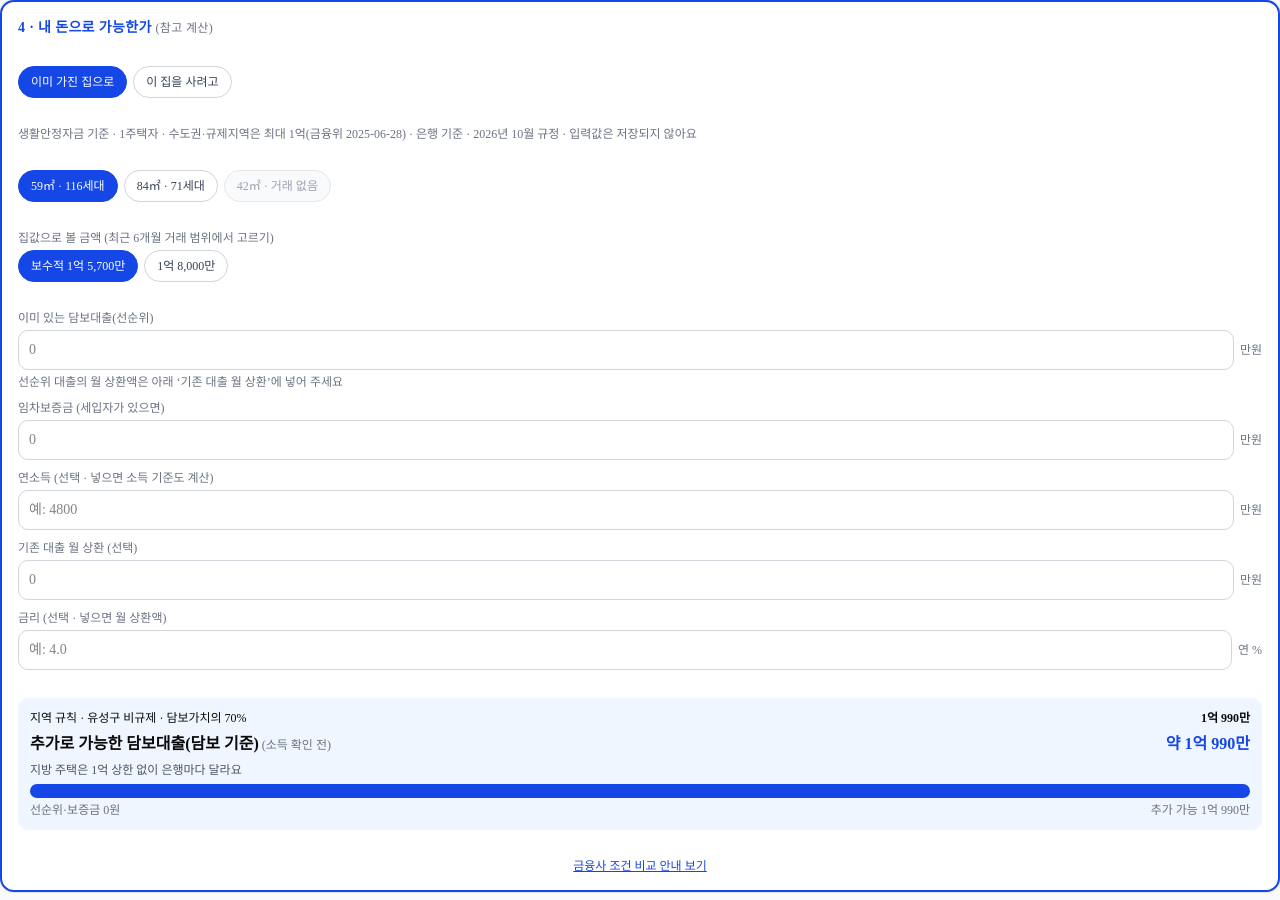
Scenario: LoanEstimateSection — 이미 가진 집(기본) › 설계 예시 — 6139 보수적 1억 5,700만 · 유성구 비규제 70% = 1억 990만 · 선순위 5,000만 → 약 5,990만 · 지방 상한 없음
Click the button with test id "consumer-loan-notes-toggle" at [640, 866], box [18,858,1262,874]
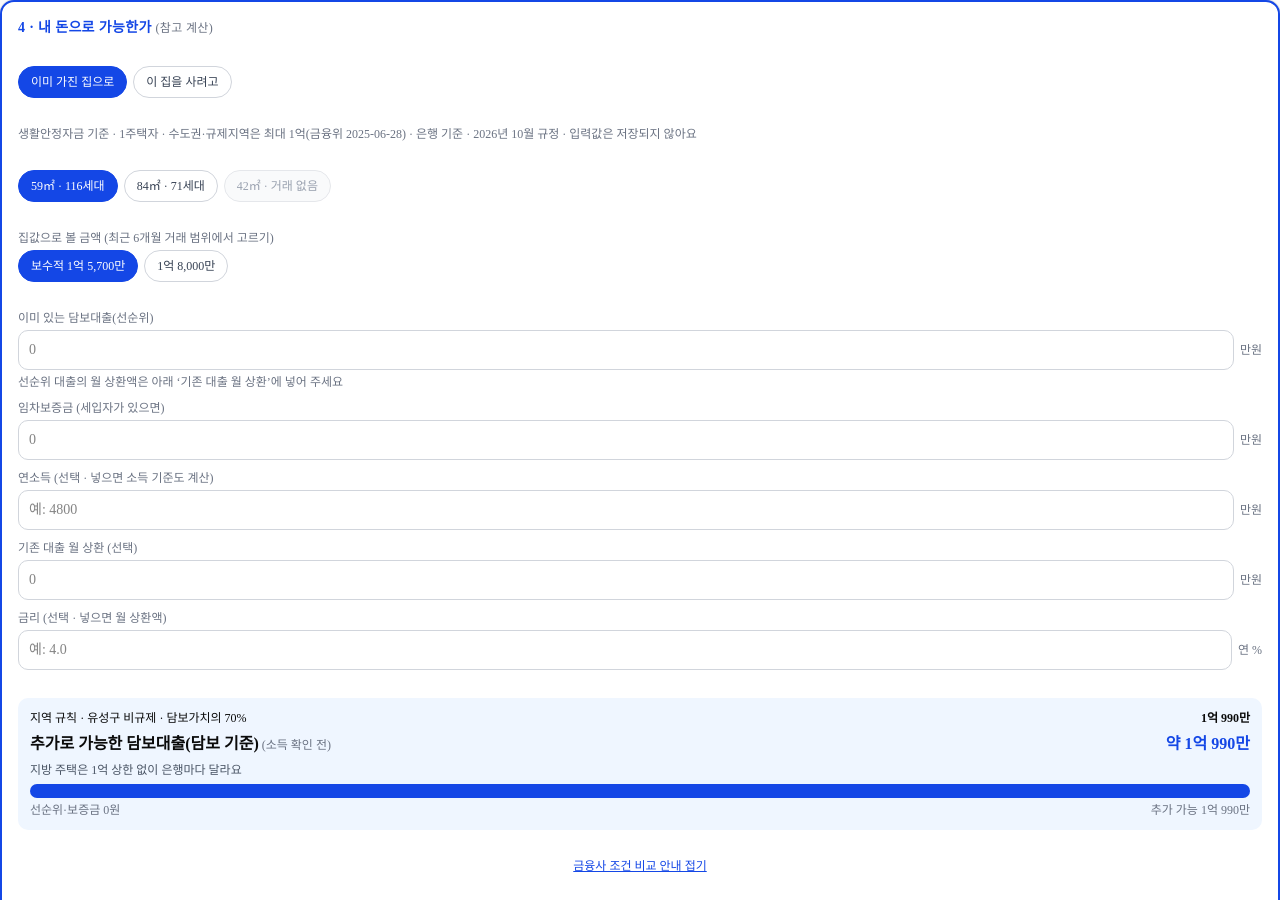
Expected: the text with test id "consumer-loan-basis" shows "생활안정자금 기준 · 1주택자 · 수도권·규제지역은 최대 1억(금융위 2025-06-28)", [18,127,697,141]
Expected: the element with test id "consumer-loan-result" shows "유성구 비규제 · 담보가치의 70%", [30,711,247,725]
Type "5000" into the field labelled "이미 있는 담보대출(선순위)" at [626, 350], box [18,330,1234,370]
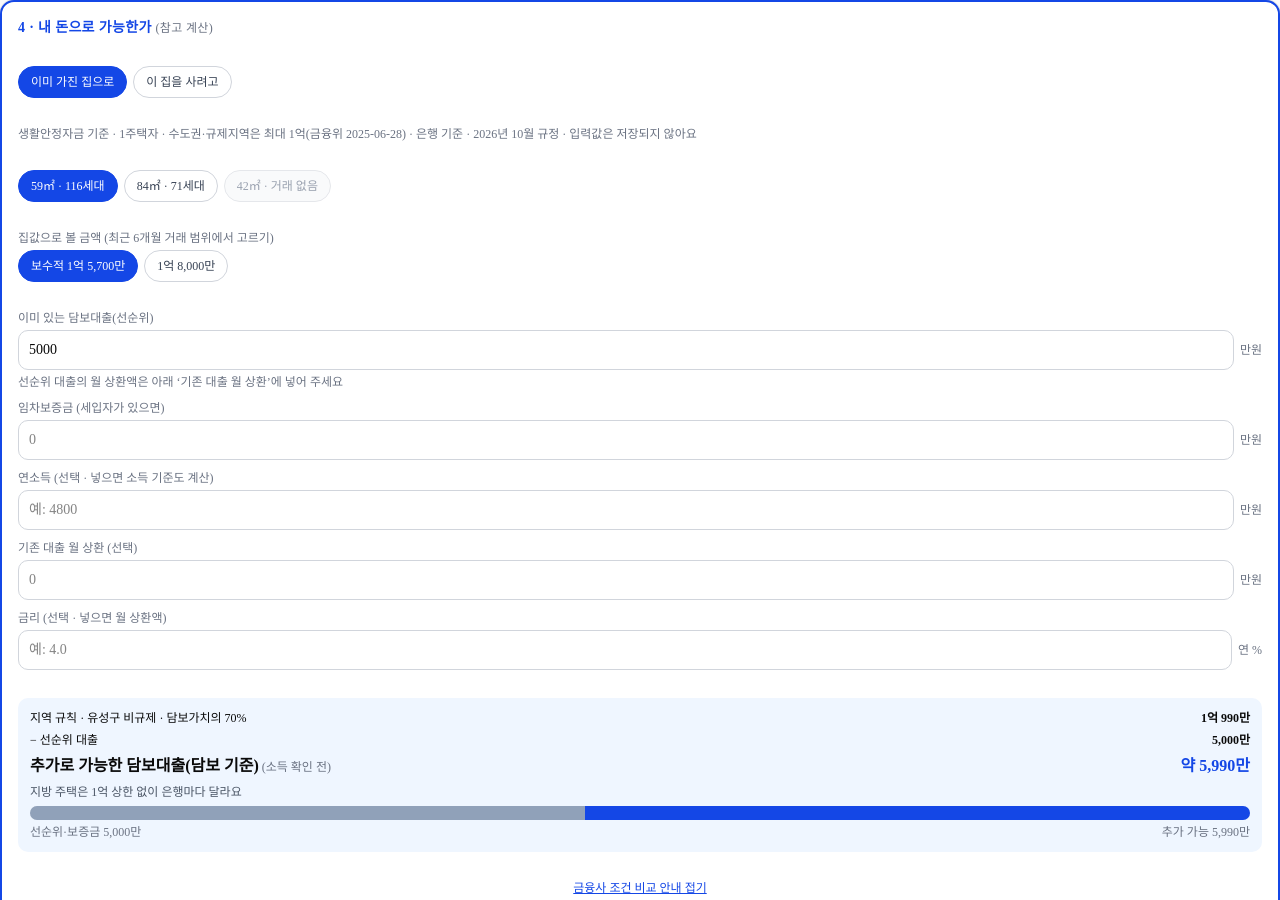
Expected: the element with test id "consumer-loan-result" shows "지방 주택은 1억 상한 없이 은행마다 달라요", [30,785,242,799]
Now the element with test id "consumer-loan-result" shows "약 5,990만", box [1180,757,1250,774]
